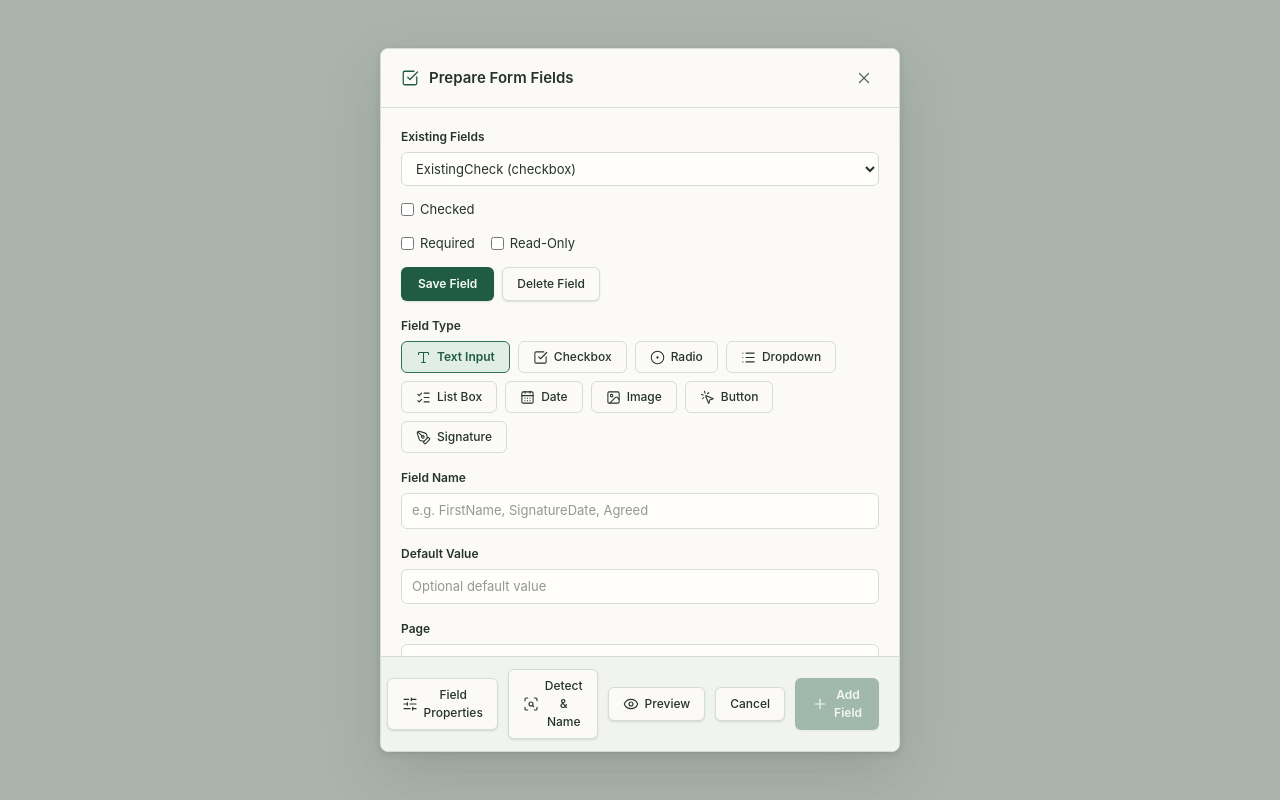
FormManager › enumerates checkbox, choice, radio, and button fields
Select "ExistingCheck (checkbox)" in the dropdown labelled "Existing Fields" at (640, 169), box top-left (401, 152), bottom-right (879, 186)
Expected: the text "Checked" is shown, top-left (401, 201), bottom-right (475, 217)
Select "ExistingChoice (choice)" in the dropdown labelled "Existing Fields" at (640, 169), box top-left (401, 152), bottom-right (879, 186)
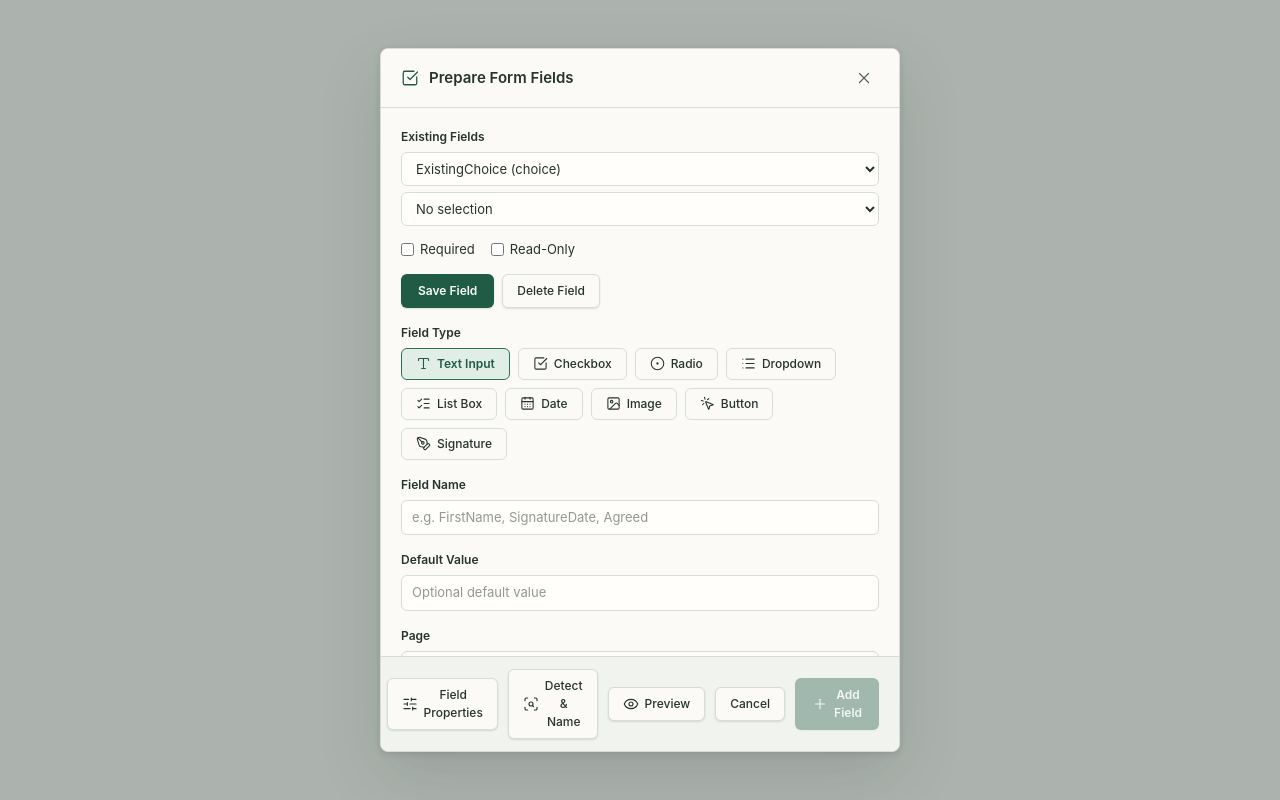
Result: the dropdown named "Existing field value" is shown at top-left (401, 192), bottom-right (879, 226)
Select "ExistingRadio (choice)" in the dropdown labelled "Existing Fields" at (640, 169), box top-left (401, 152), bottom-right (879, 186)
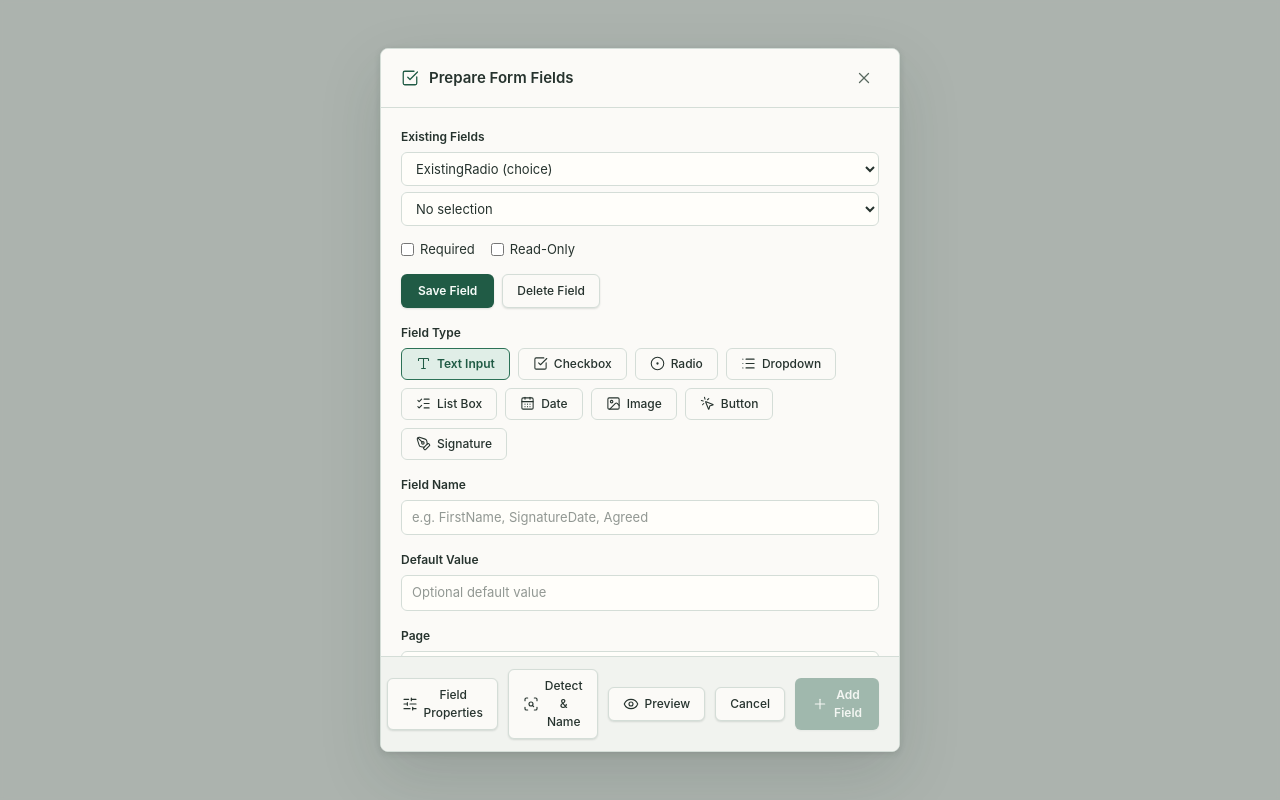
Result: the dropdown named "Existing field value" is shown at top-left (401, 192), bottom-right (879, 226)
Select "ExistingButton (button)" in the dropdown labelled "Existing Fields" at (640, 169), box top-left (401, 152), bottom-right (879, 186)
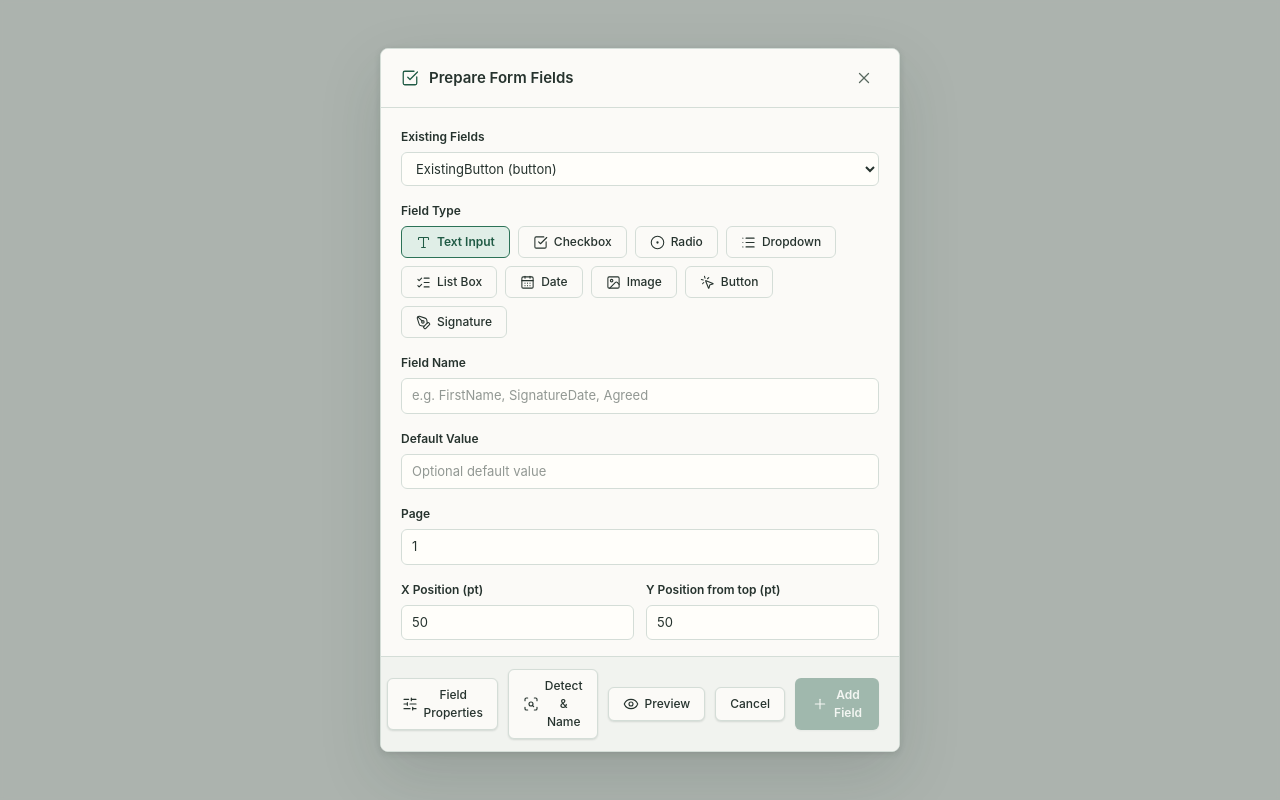
Result: the button "Save Field" is gone
